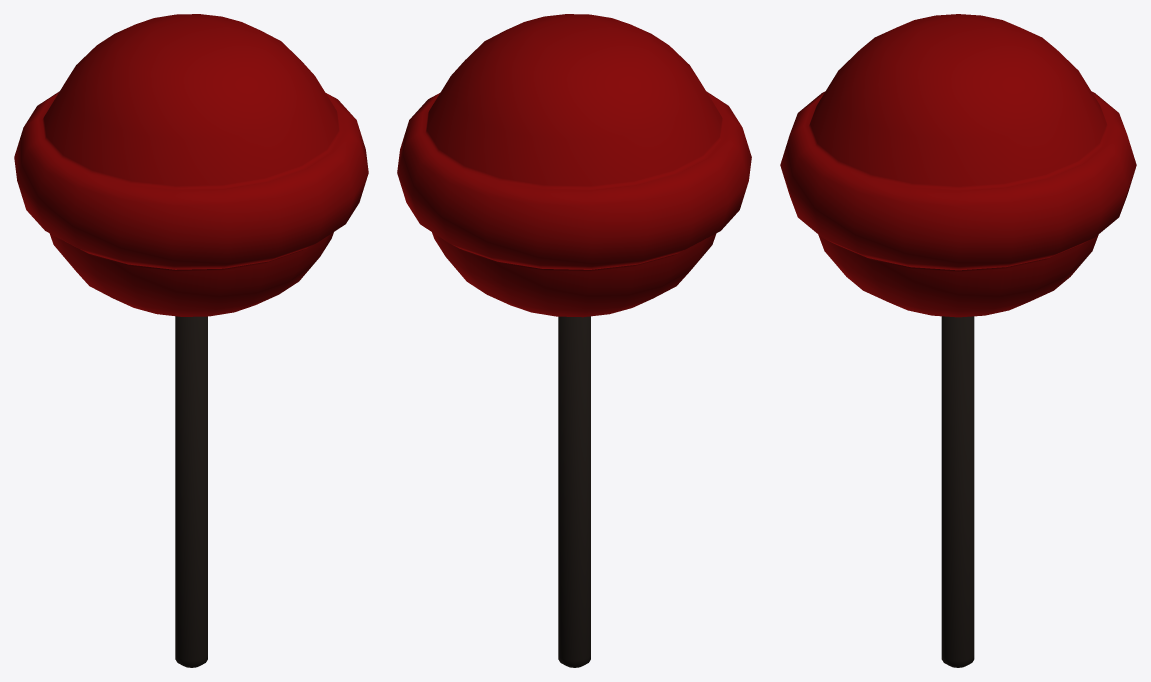
Rendered from Lollipop_2.FBX.
3 views of the same model, side by side, from view 1: azimuth 30°, elevation 25°; view 2: azimuth 150°, elevation 25°; view 3: azimuth 270°, elevation 25° (orthographic).
Parts seen in each view (by area): view 1: Lollipop_2; view 2: Lollipop_2; view 3: Lollipop_2.
Boxes of the visible parts, x1=… form: Lollipop_2: x1=14, y1=14, x2=368, y2=667; Lollipop_2: x1=397, y1=14, x2=751, y2=667; Lollipop_2: x1=780, y1=14, x2=1136, y2=667.
Size of the model in its own units: 532 by 532 by 1038.
